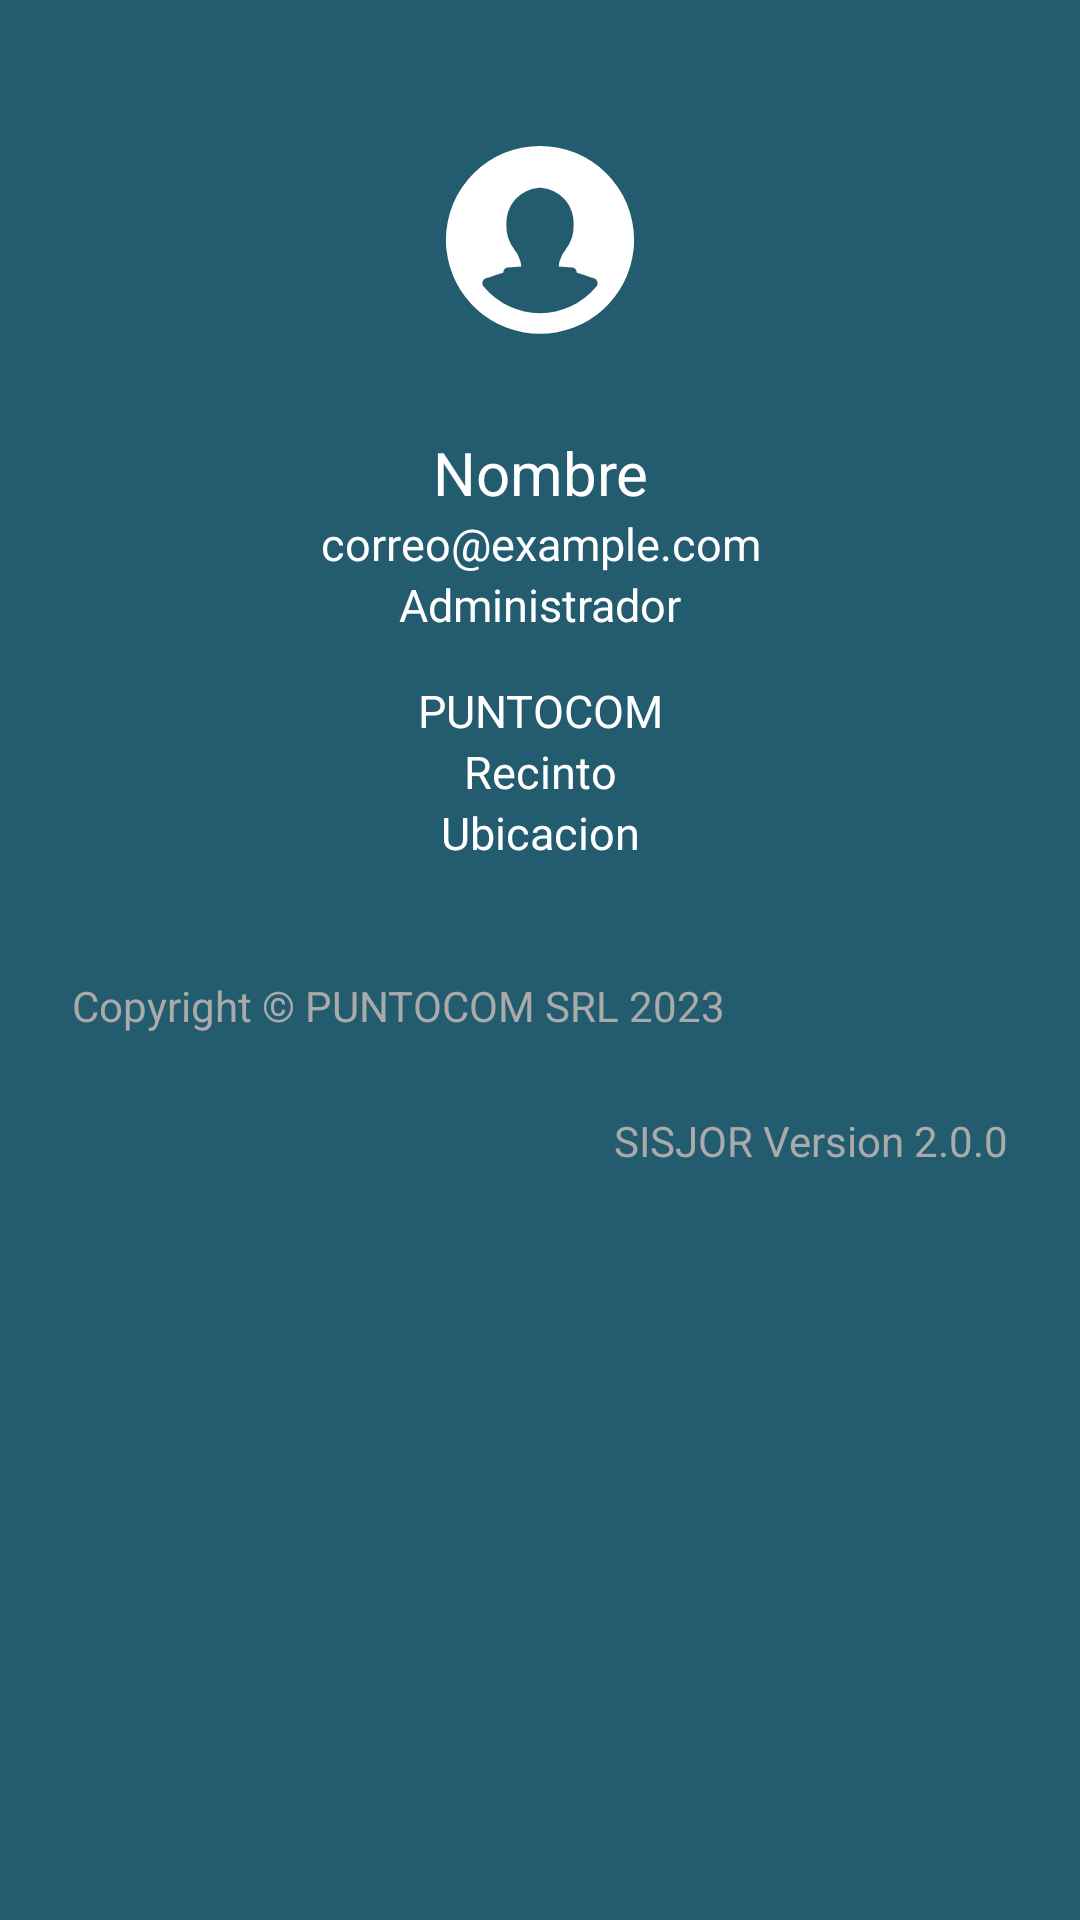

Screen size 1080x1920. Icon name, then its box in pixels as box(x1, y1, x2, y2):
Imagen Usuario: box(446, 146, 634, 334)
